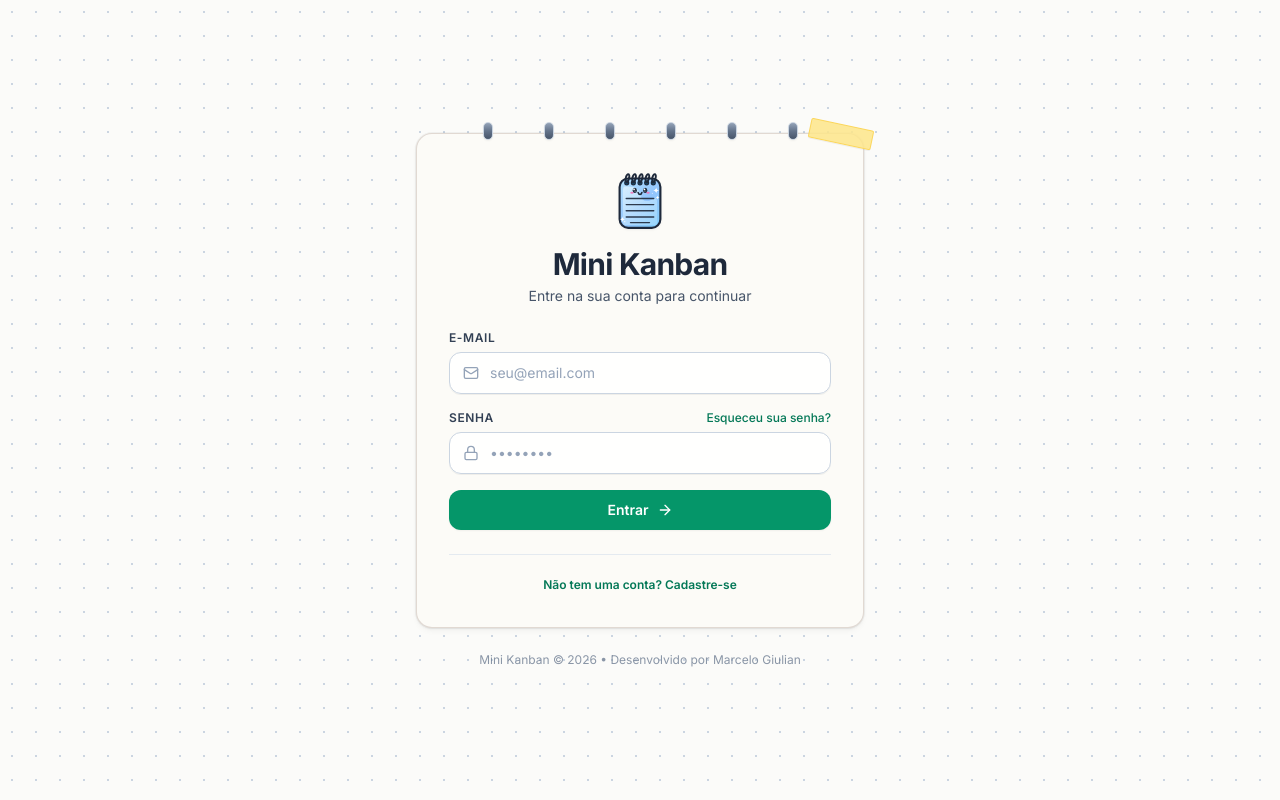
Scenario: PaginaLogin › cadastra uma nova conta e retorna ao login
Click the button "Não tem uma conta? Cadastre-se" at coordinates (640, 584), box top-left (543, 576), bottom-right (737, 592)
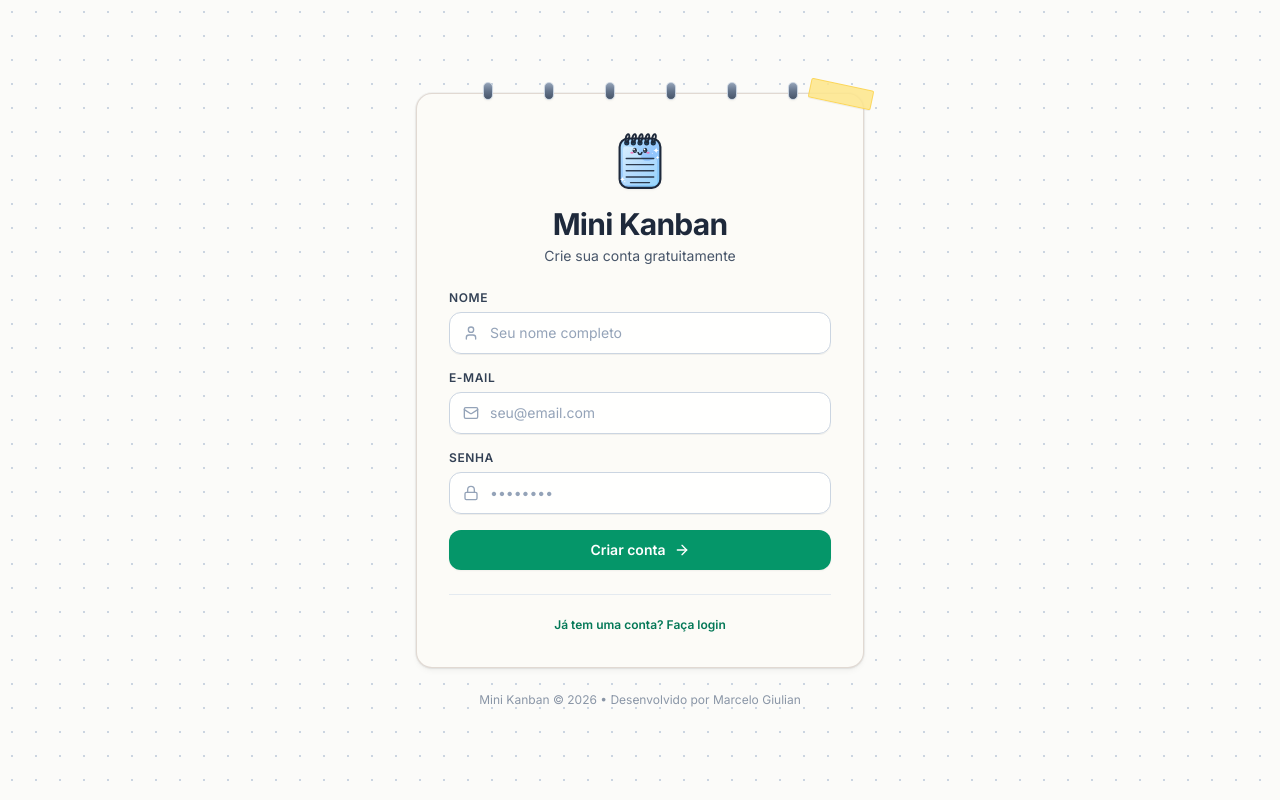
Type "Teste Usuario" into the field labelled "Nome" at coordinates (640, 332), box top-left (449, 312), bottom-right (831, 354)
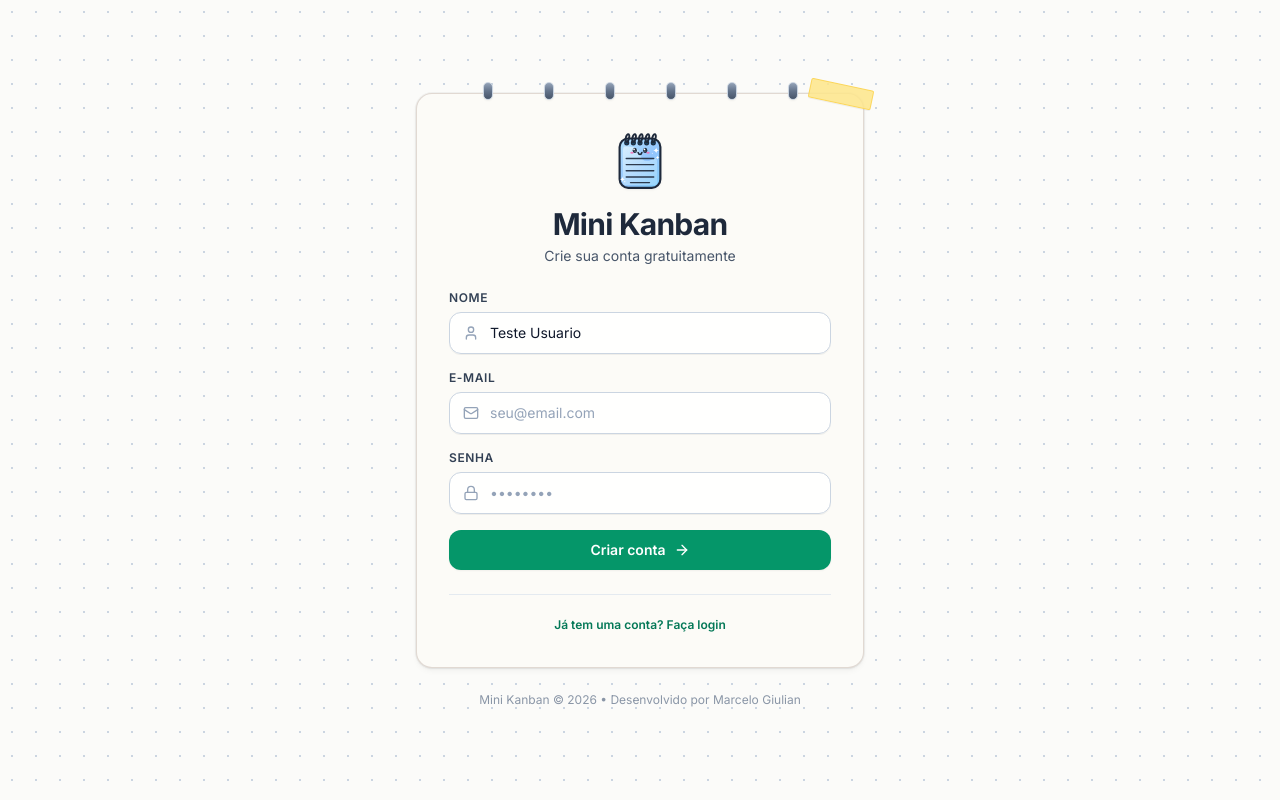
Type "teste@example.com" into the field labelled "E-mail" at coordinates (640, 412), box top-left (449, 392), bottom-right (831, 434)
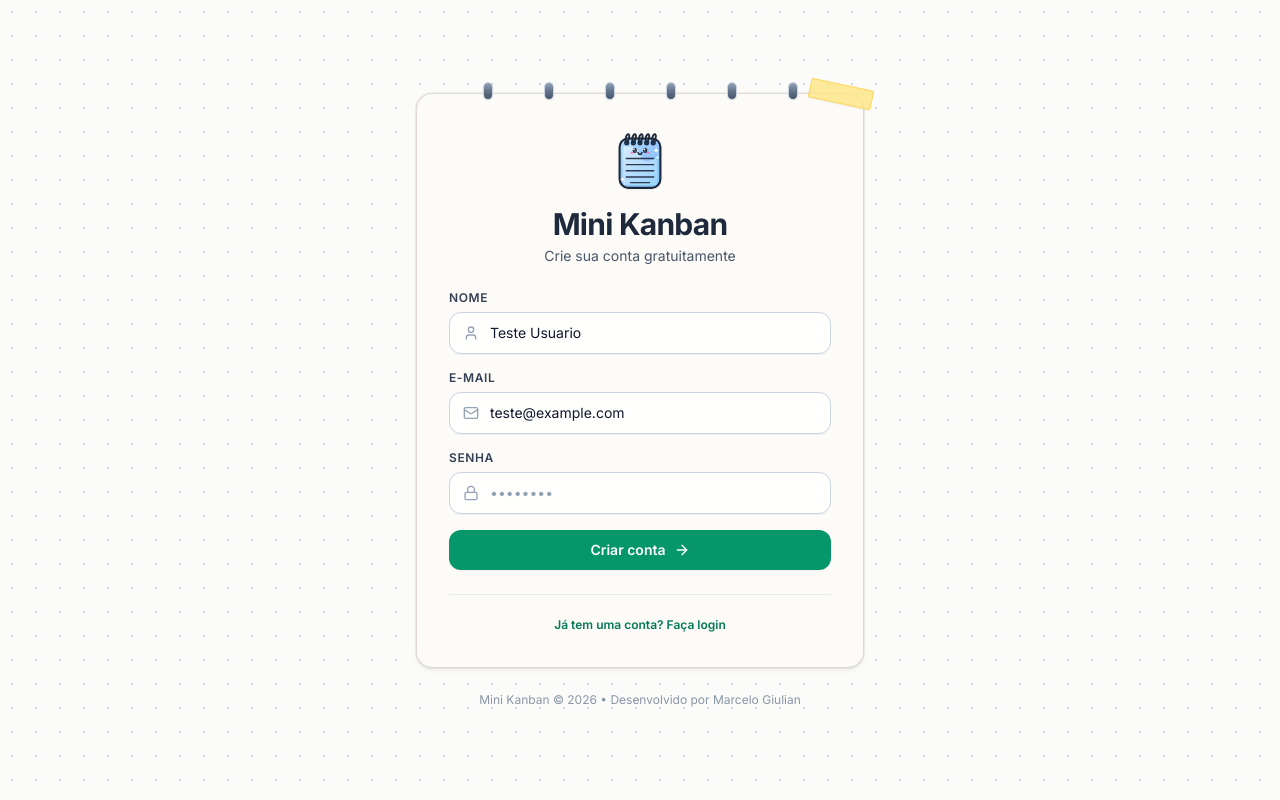
Type "password123" into the password field labelled "Senha" at coordinates (640, 492), box top-left (449, 472), bottom-right (831, 514)
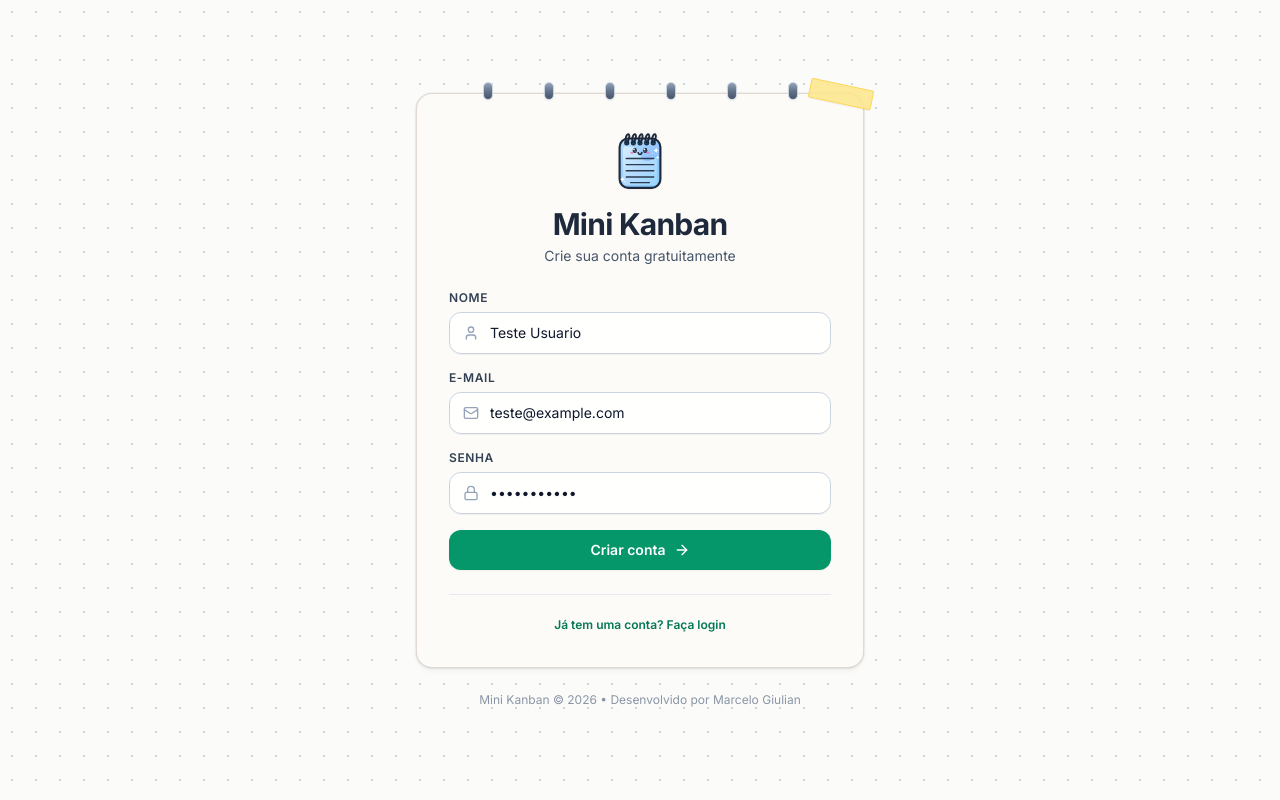
Click the button "Criar conta" at coordinates (640, 550), box top-left (449, 530), bottom-right (831, 570)
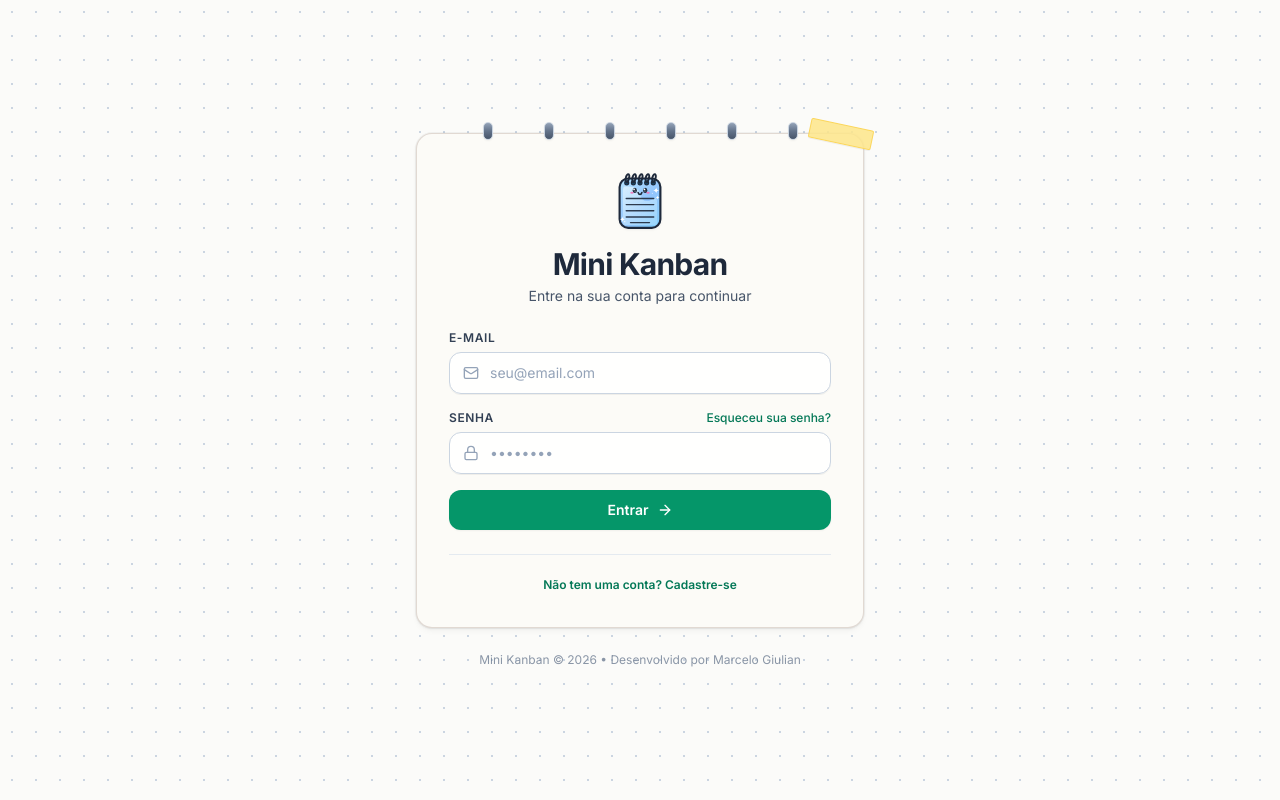
expect the text "Entre na sua conta para continuar" is shown: met, box top-left (528, 286), bottom-right (752, 304)
